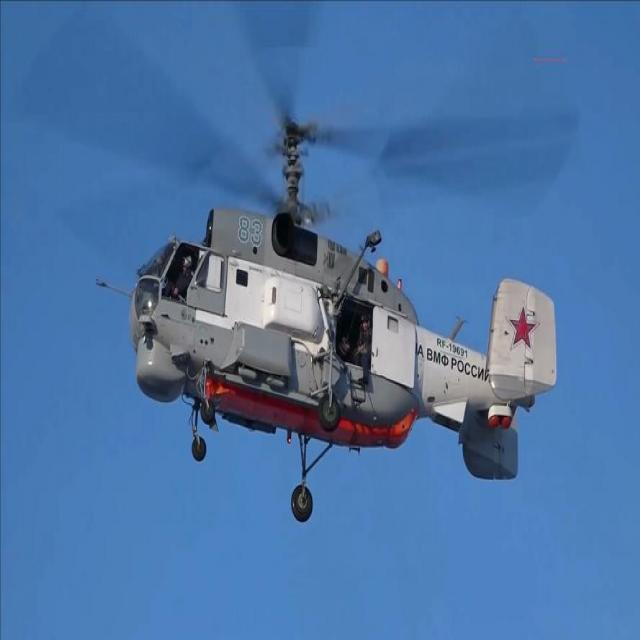MIL_HELO: (10, 2, 585, 534)
